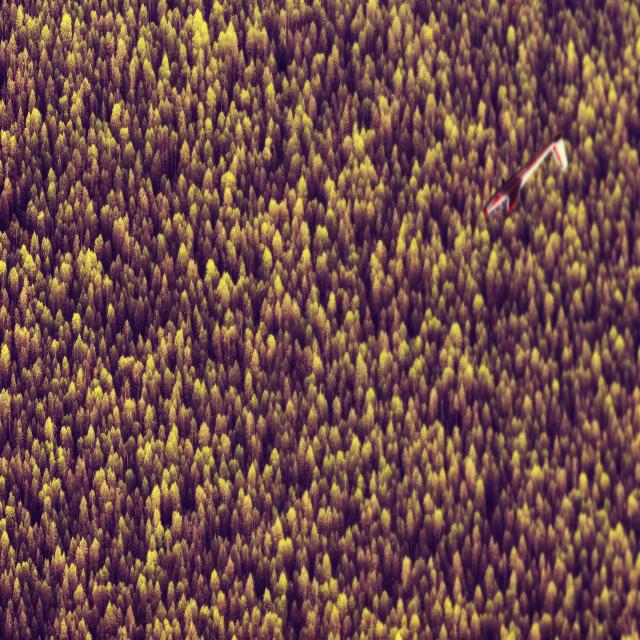airplane: (483, 132, 568, 218)
